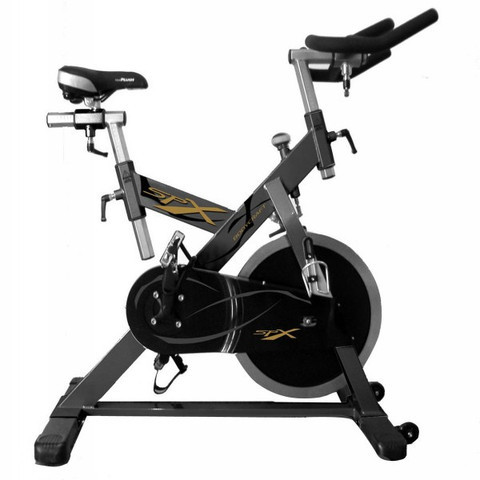gym_bike: (31, 10, 446, 468)
